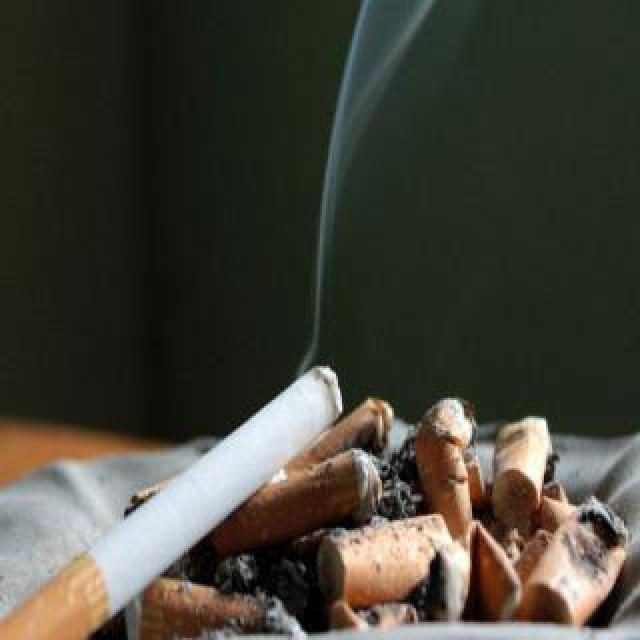Smoke: (300, 0, 436, 378)
